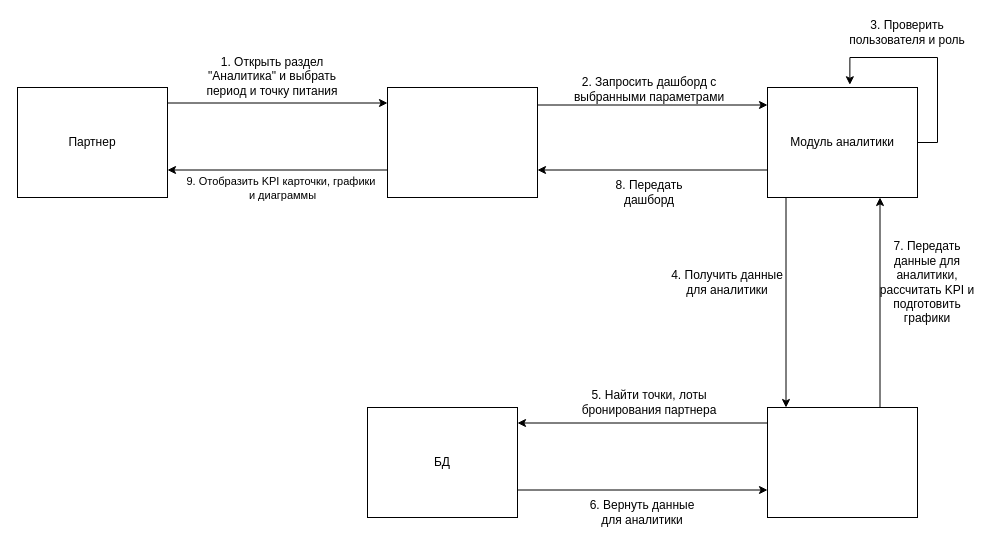
Some shapes in this 995 by 544 pixel diagram are drawn without their labels. The box of each missing label's shape, as (x1, y1, x2, y2) in pixels:
Моудль доступа к данным: (766, 406, 918, 518)
Экран анаитики: (386, 86, 538, 198)
